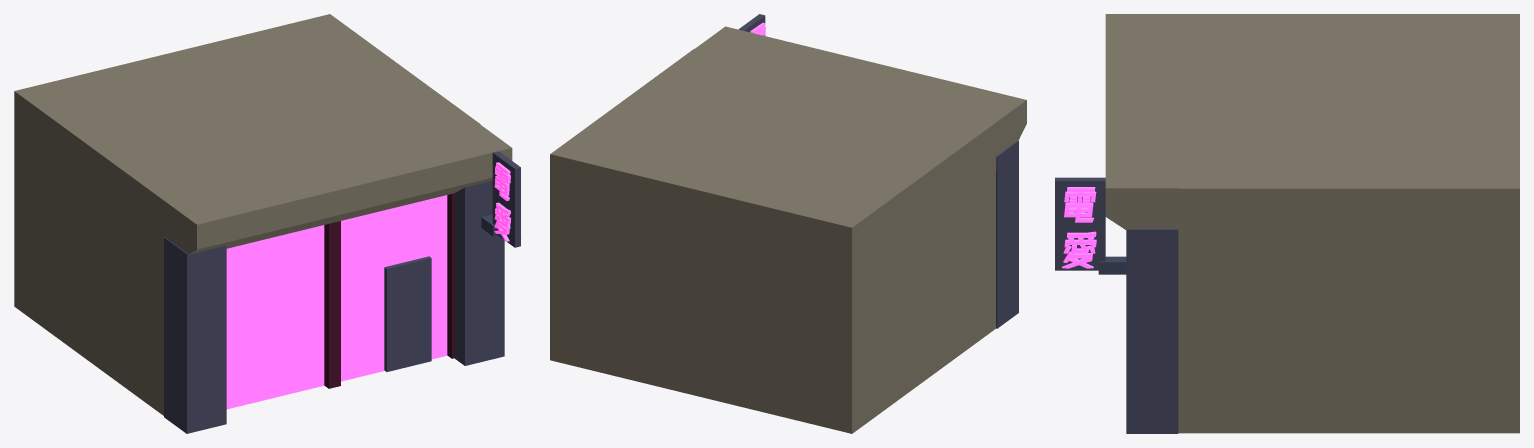
3 renders of one model, left to right at view 1: azimuth 30°, elevation 25°; view 2: azimuth 150°, elevation 25°; view 3: azimuth 270°, elevation 25°, orthographic. The views are drawn at different scales.
Parts seen in each view (by area): view 1: Cube.028, Cube.002, Cube.001, Cube.007, Cube, Cube.006, Cube.005, Cube.008, Cube.004, Text.001; view 2: Cube.028, Cube.001, Cube.007; view 3: Cube.028, Cube.001, Cube, Cube.008, Text, Cube.009.
Boxes of the visible parts, box(x1,y1,x2,y2) form: Cube.028: box(14, 14, 480, 415); Cube.002: box(226, 195, 447, 409); Cube.001: box(165, 124, 512, 254); Cube.007: box(164, 237, 226, 433); Cube: box(454, 180, 504, 365); Cube.006: box(384, 256, 431, 371); Cube.005: box(324, 221, 340, 388); Cube.008: box(492, 151, 520, 247); Cube.004: box(447, 193, 454, 358); Text.001: box(494, 162, 511, 241); Cube.028: box(550, 49, 995, 433); Cube.001: box(695, 26, 1026, 169); Cube.007: box(996, 140, 1018, 328); Cube.028: box(1178, 14, 1519, 433); Cube.001: box(1105, 14, 1178, 229); Cube: box(1126, 229, 1178, 433); Cube.008: box(1055, 177, 1105, 270); Text: box(1062, 187, 1096, 268); Cube.009: box(1098, 256, 1126, 274).
Bounding box in the file's own units: 12.49 × 8.11 × 13.95.
